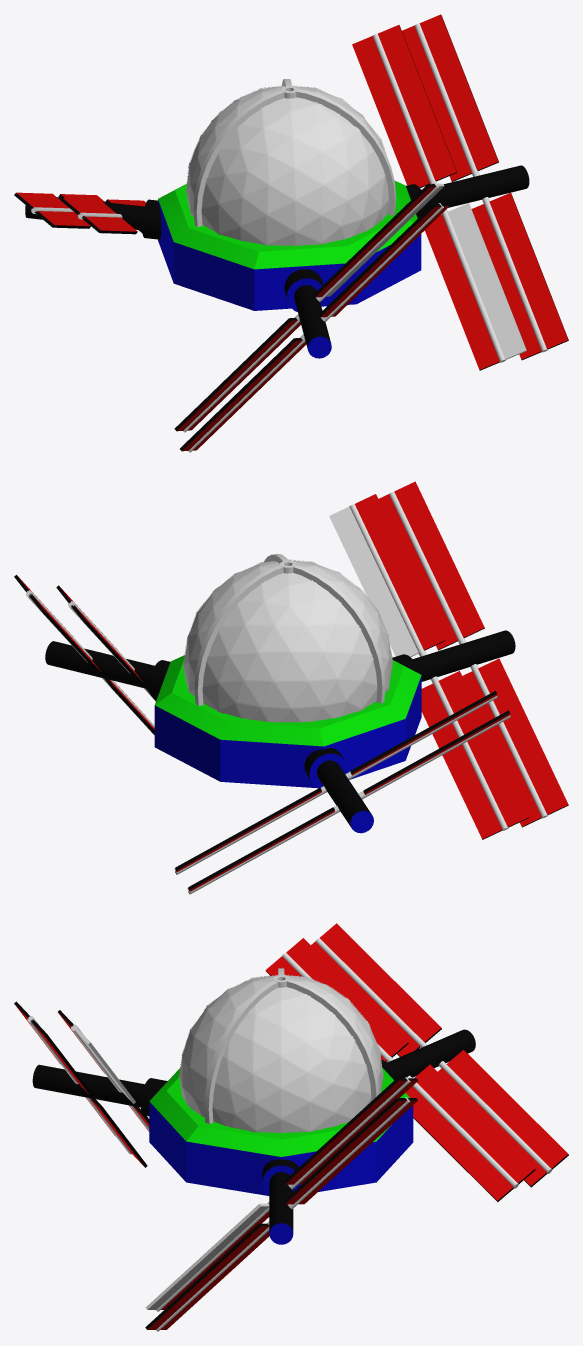
File: space_station.fbx
3 views of the same model, one above another, from view 1: azimuth 30°, elevation 25°; view 2: azimuth 150°, elevation 25°; view 3: azimuth 270°, elevation 25° (orthographic). The views are drawn at different scales.
Parts seen in each view (by area): view 1: balls, base, sheild, polySurface3, polySurface12, polySurface6, polySurface9, polySurface11, polySurface5, cylinder_1, cylinder_2, polySurface2 (+18 smaller); view 2: balls, base, sheild, polySurface24, polySurface21, polySurface15, polySurface18, polySurface23, polySurface17, cylinder_1, cylinder_2, cylinder_3 (+18 smaller); view 3: balls, base, sheild, polySurface33, polySurface27, polySurface30, polySurface29, cylinder_2, polySurface36, cylinder_1, cylinder_3, polySurface12 (+18 smaller).
Boxes of the visible parts, bbox=[...] form: balls: bbox=[186, 86, 389, 245]; base: bbox=[158, 181, 421, 310]; sheild: bbox=[186, 85, 388, 245]; polySurface3: bbox=[489, 192, 568, 349]; polySurface12: bbox=[378, 25, 457, 181]; polySurface6: bbox=[447, 203, 526, 359]; polySurface9: bbox=[419, 14, 498, 170]; polySurface11: bbox=[352, 36, 429, 188]; polySurface5: bbox=[425, 214, 499, 370]; cylinder_1: bbox=[406, 165, 529, 218]; cylinder_2: bbox=[284, 269, 331, 358]; polySurface2: bbox=[471, 204, 541, 360]; balls: bbox=[183, 560, 392, 722]; base: bbox=[154, 655, 421, 788]; sheild: bbox=[183, 559, 393, 722]; polySurface24: bbox=[355, 494, 445, 650]; polySurface21: bbox=[394, 481, 484, 637]; polySurface15: bbox=[478, 658, 568, 814]; polySurface18: bbox=[438, 671, 529, 827]; polySurface23: bbox=[329, 506, 418, 657]; polySurface17: bbox=[421, 683, 502, 839]; cylinder_1: bbox=[45, 641, 170, 698]; cylinder_2: bbox=[392, 630, 515, 681]; cylinder_3: bbox=[304, 748, 373, 833]; balls: bbox=[179, 975, 383, 1132]; base: bbox=[149, 1067, 413, 1195]; sheild: bbox=[179, 974, 383, 1133]; polySurface33: bbox=[320, 923, 441, 1042]; polySurface27: bbox=[446, 1050, 568, 1169]; polySurface30: bbox=[414, 1064, 535, 1183]; polySurface29: bbox=[405, 1086, 513, 1201]; cylinder_2: bbox=[32, 1064, 167, 1116]; polySurface36: bbox=[286, 938, 408, 1057]; cylinder_1: bbox=[262, 1159, 300, 1244]; cylinder_3: bbox=[381, 1029, 475, 1080]; polySurface12: bbox=[283, 1078, 407, 1184].
Bounding box in the file's own units: 16021 × 8627 × 16223.
